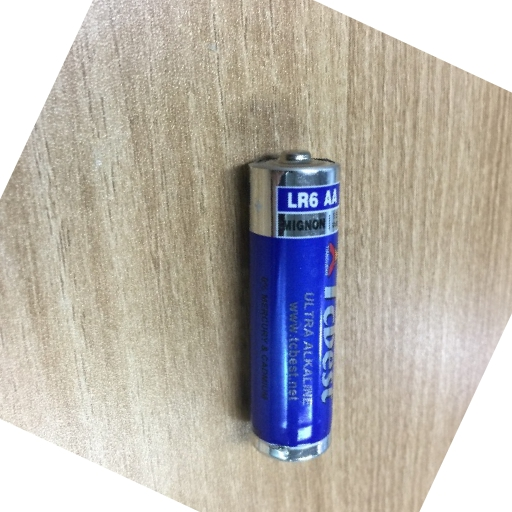Battery_0: (231, 142, 365, 468)
